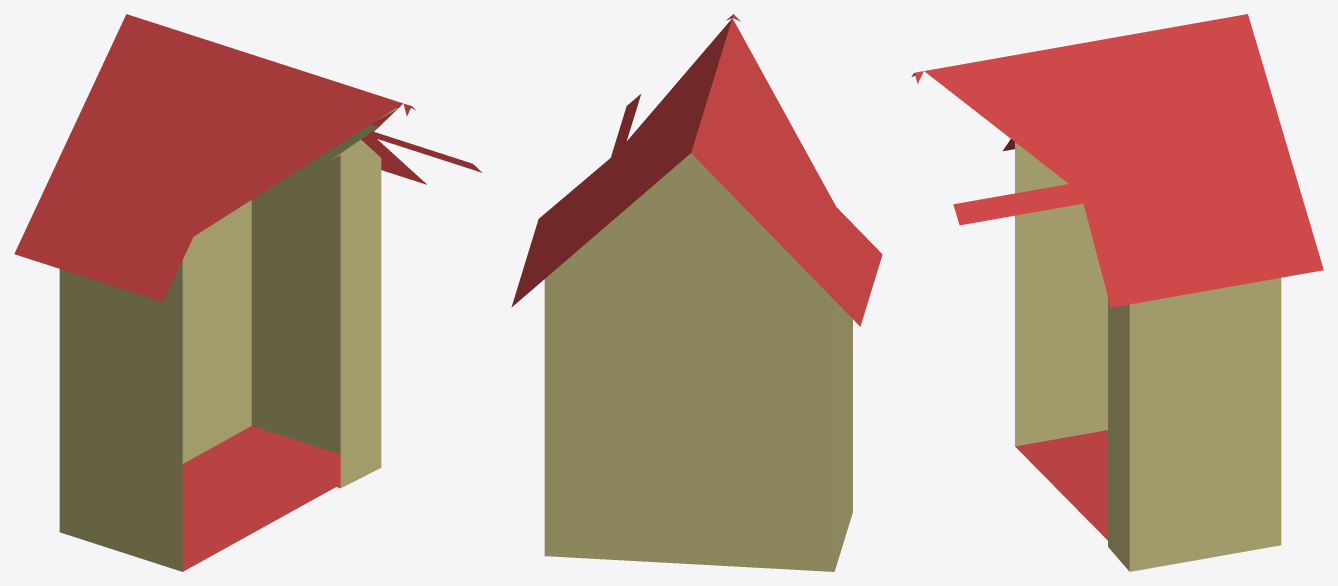
3 renders of one model, left to right at view 1: azimuth 30°, elevation 25°; view 2: azimuth 150°, elevation 25°; view 3: azimuth 270°, elevation 25°, orthographic. The views are drawn at different scales.
Size of the model in its own units: 13.62 by 12.7 by 15.67.
